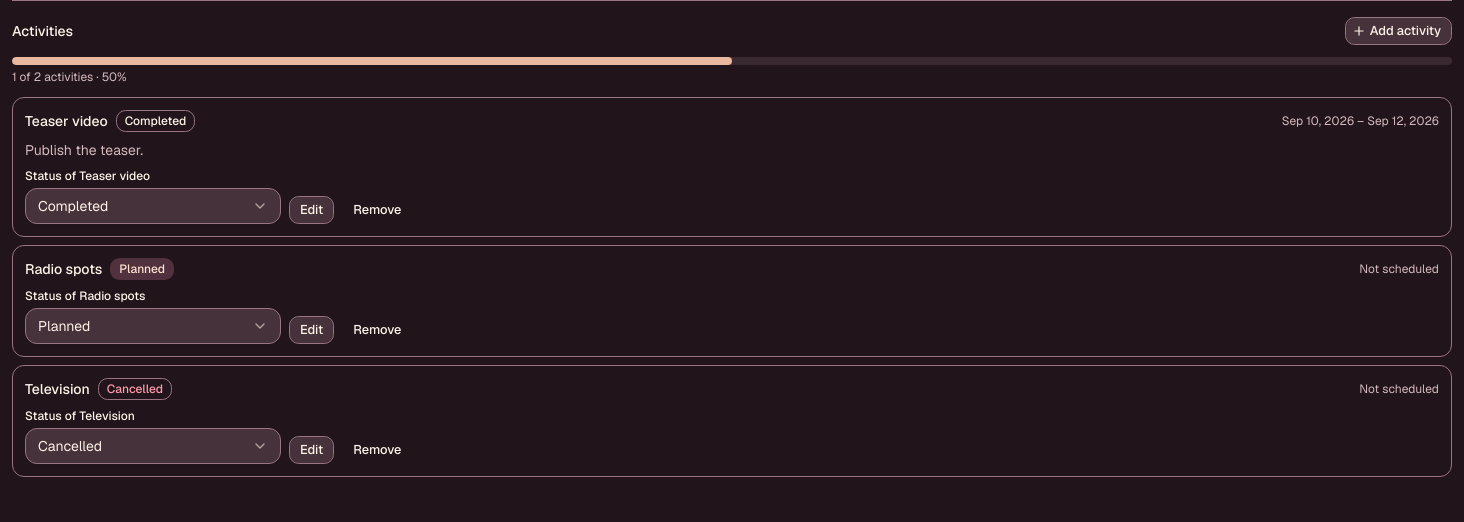
Test: CampaignActivities › changing status inline › tells the user when the activity no longer exists
Check: the text "Teaser video" is shown, box [25,111,108,131]
What coordinates should you click on to do the following:
click the dropdown named "Status of Radio spots"
I would click on:
 (153, 326)
Its box is [25,308,281,344].
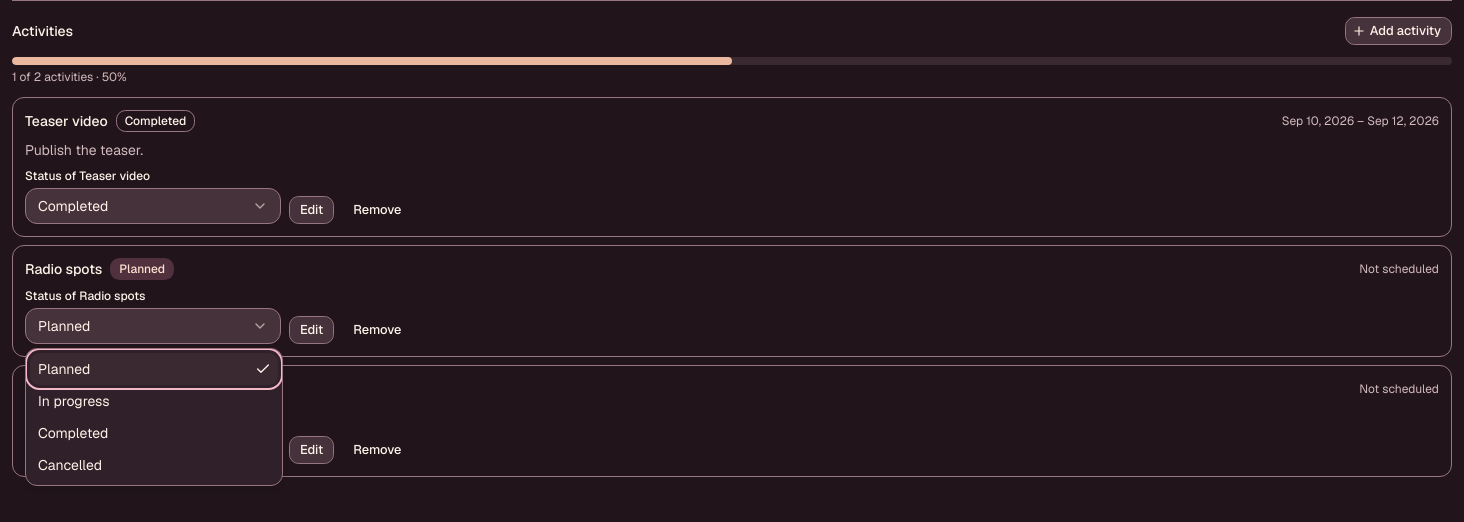
What coordinates should you click on to do the following:
click the option "Completed"
I would click on:
 (73, 433)
Its box is [38,424,108,442].
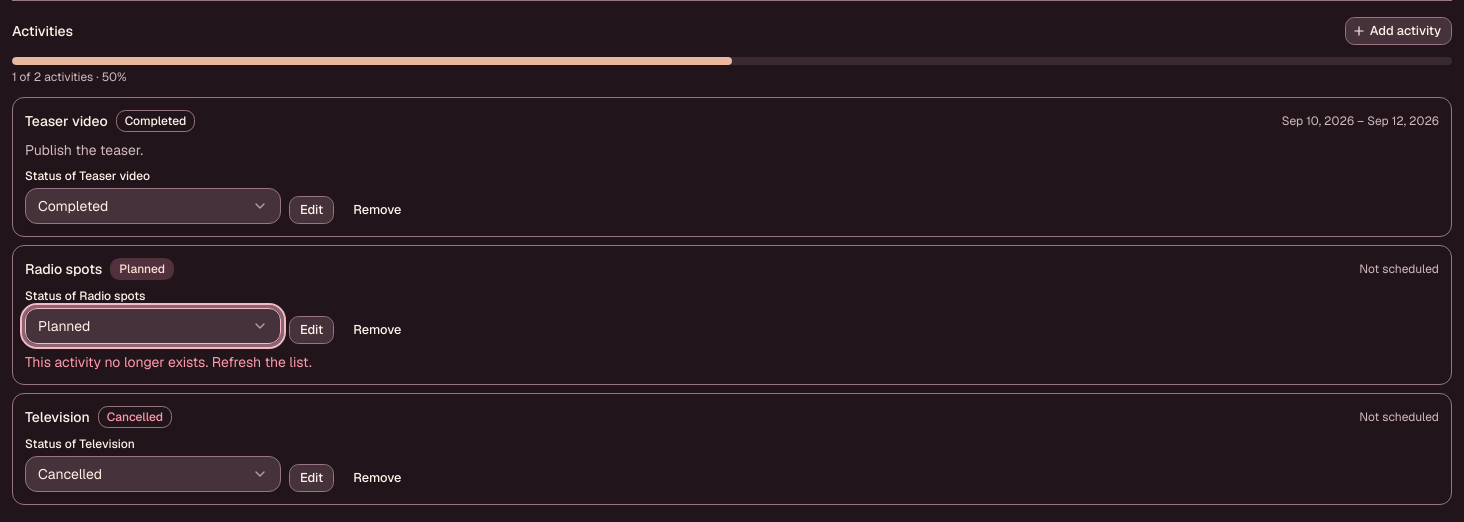
Check: the text "This activity no longer exists. Refresh the list." is shown, box [25,353,312,371]
